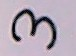sum: (2, 3, 68, 56)
